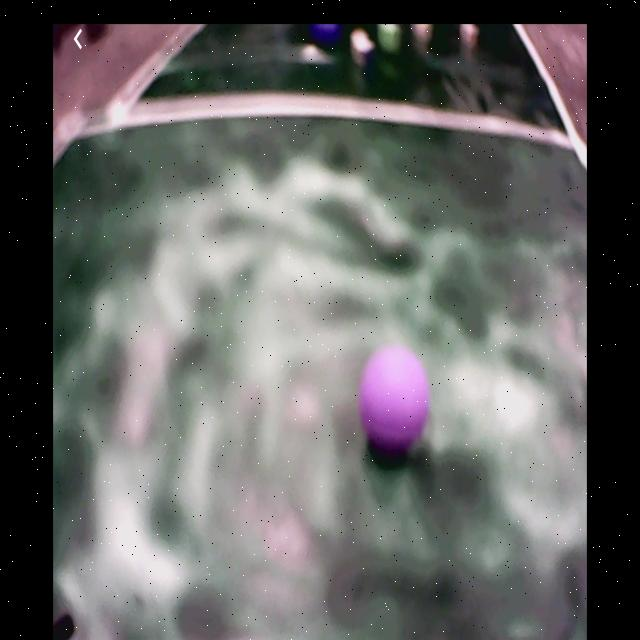ball: (361, 347, 430, 451), (314, 22, 343, 48)
